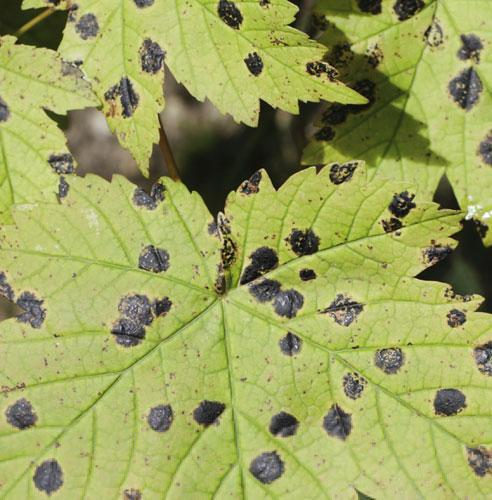black-spot: (139, 277, 411, 500)
